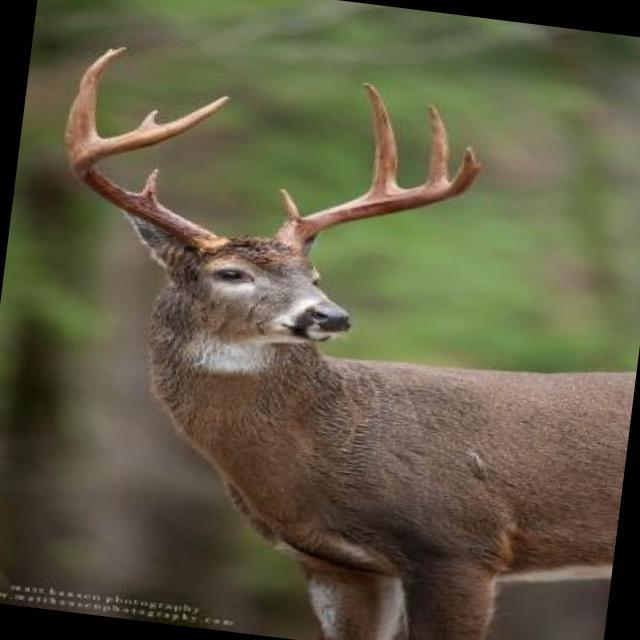E1: (137, 109, 159, 128)
L-F: (271, 144, 485, 256)
L-G1: (278, 188, 301, 220)
L-G2: (362, 82, 398, 192)
L-G3: (426, 104, 450, 182)
R-F: (68, 95, 231, 255)
R-G1: (137, 168, 161, 202)
R-G2: (62, 46, 127, 155)
